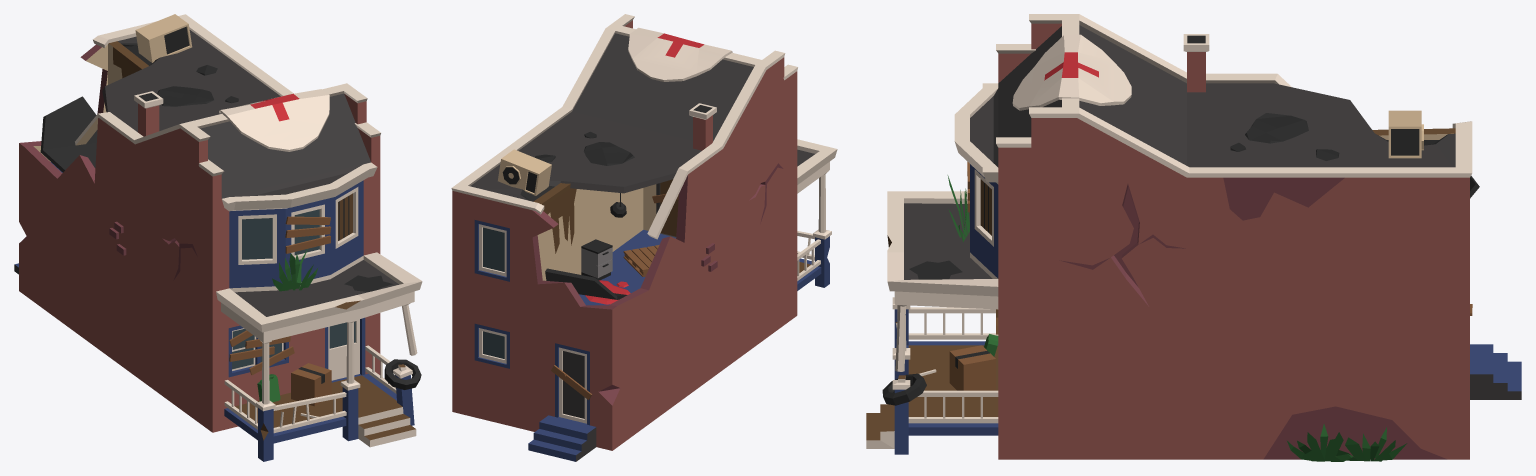
Rendered from apocalypse_building-house-block-old-apocalypse.fbx.
3 renders of one model, left to right at view 1: azimuth 30°, elevation 25°; view 2: azimuth 150°, elevation 25°; view 3: azimuth 270°, elevation 25°, orthographic. The views are drawn at different scales.
Visible parts, largest first — view 1: building_house_block_old_apocalypse_building_house_block_old (×2); view 2: building_house_block_old_apocalypse_building_house_block_old (×2); view 3: building_house_block_old_apocalypse_building_house_block_old (×2).
Part boxes in pixels (x1,y1,x2,y2): building_house_block_old_apocalypse_building_house_block_old (×2): (14, 14, 422, 461); building_house_block_old_apocalypse_building_house_block_old (×2): (451, 14, 837, 461); building_house_block_old_apocalypse_building_house_block_old (×2): (866, 14, 1521, 461).
Bounding box in the file's own units: 79.96 × 118 × 200.
